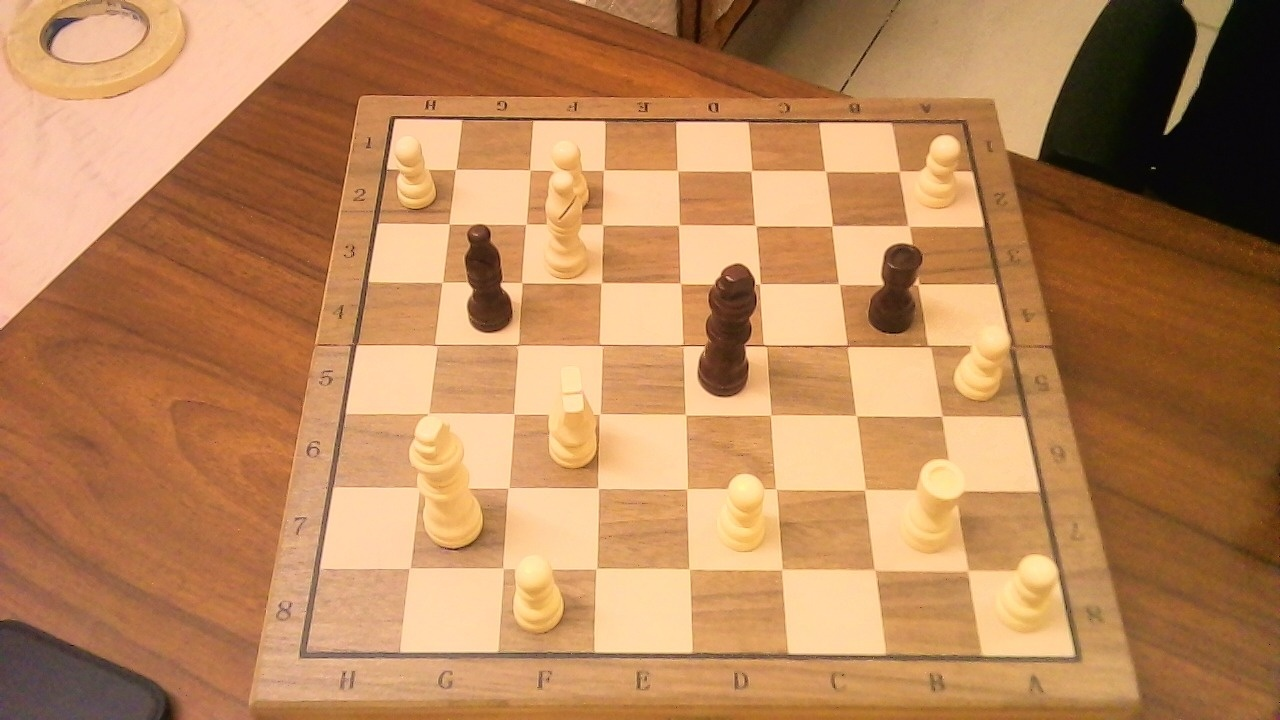B: (532, 160, 596, 281)
K: (405, 403, 493, 552)
N: (526, 385, 600, 472)
P: (989, 544, 1068, 637), (505, 544, 572, 638), (707, 464, 774, 557), (947, 317, 1018, 404), (909, 126, 970, 212), (386, 127, 442, 211), (541, 132, 594, 212)
R: (892, 448, 972, 559)
b: (453, 210, 520, 336)
k: (691, 251, 770, 402)
r: (860, 230, 932, 338)
